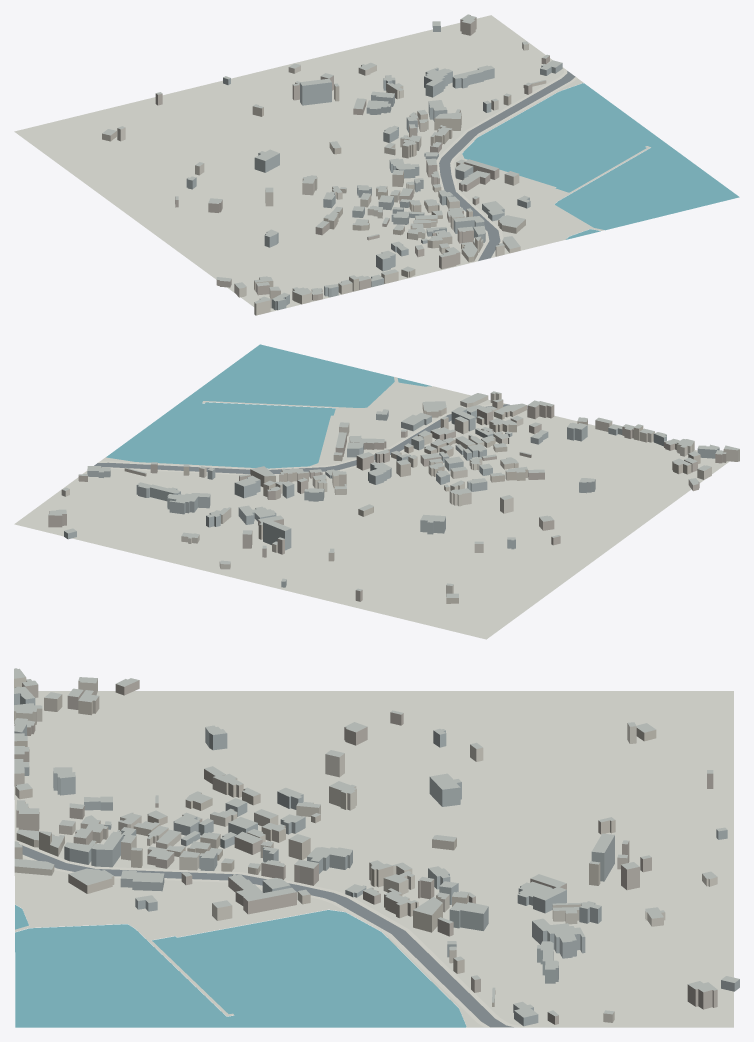
3 renders of one model, top to bottom at view 1: azimuth 30°, elevation 25°; view 2: azimuth 150°, elevation 25°; view 3: azimuth 270°, elevation 25°, orthographic. The views are drawn at different scales.
Parts seen in each view (by area): view 1: city; view 2: city; view 3: city.
Boxes of the visible parts, x1=… form: city: x1=14, y1=14, x2=739, y2=315; city: x1=14, y1=344, x2=739, y2=639; city: x1=14, y1=668, x2=739, y2=1027.
Size of the model in its own units: 508 by 19.98 by 456.
